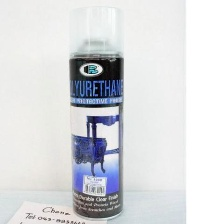aerosol_cans: (64, 2, 129, 224)
